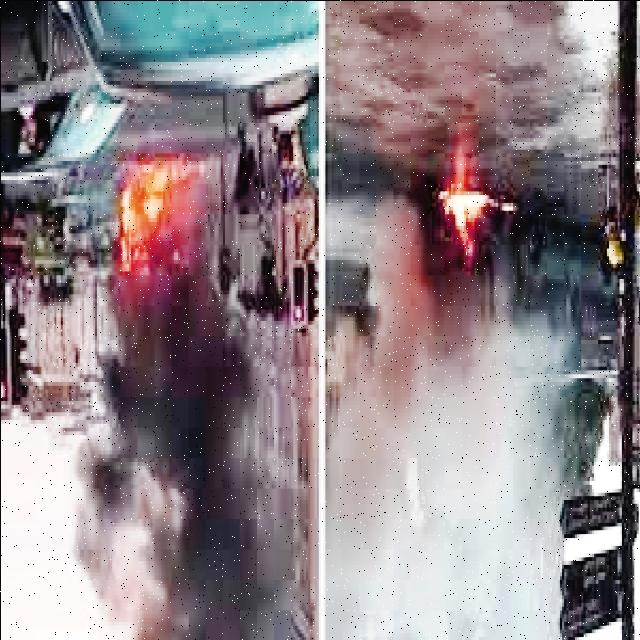api: (101, 154, 210, 302), (426, 177, 522, 283)
